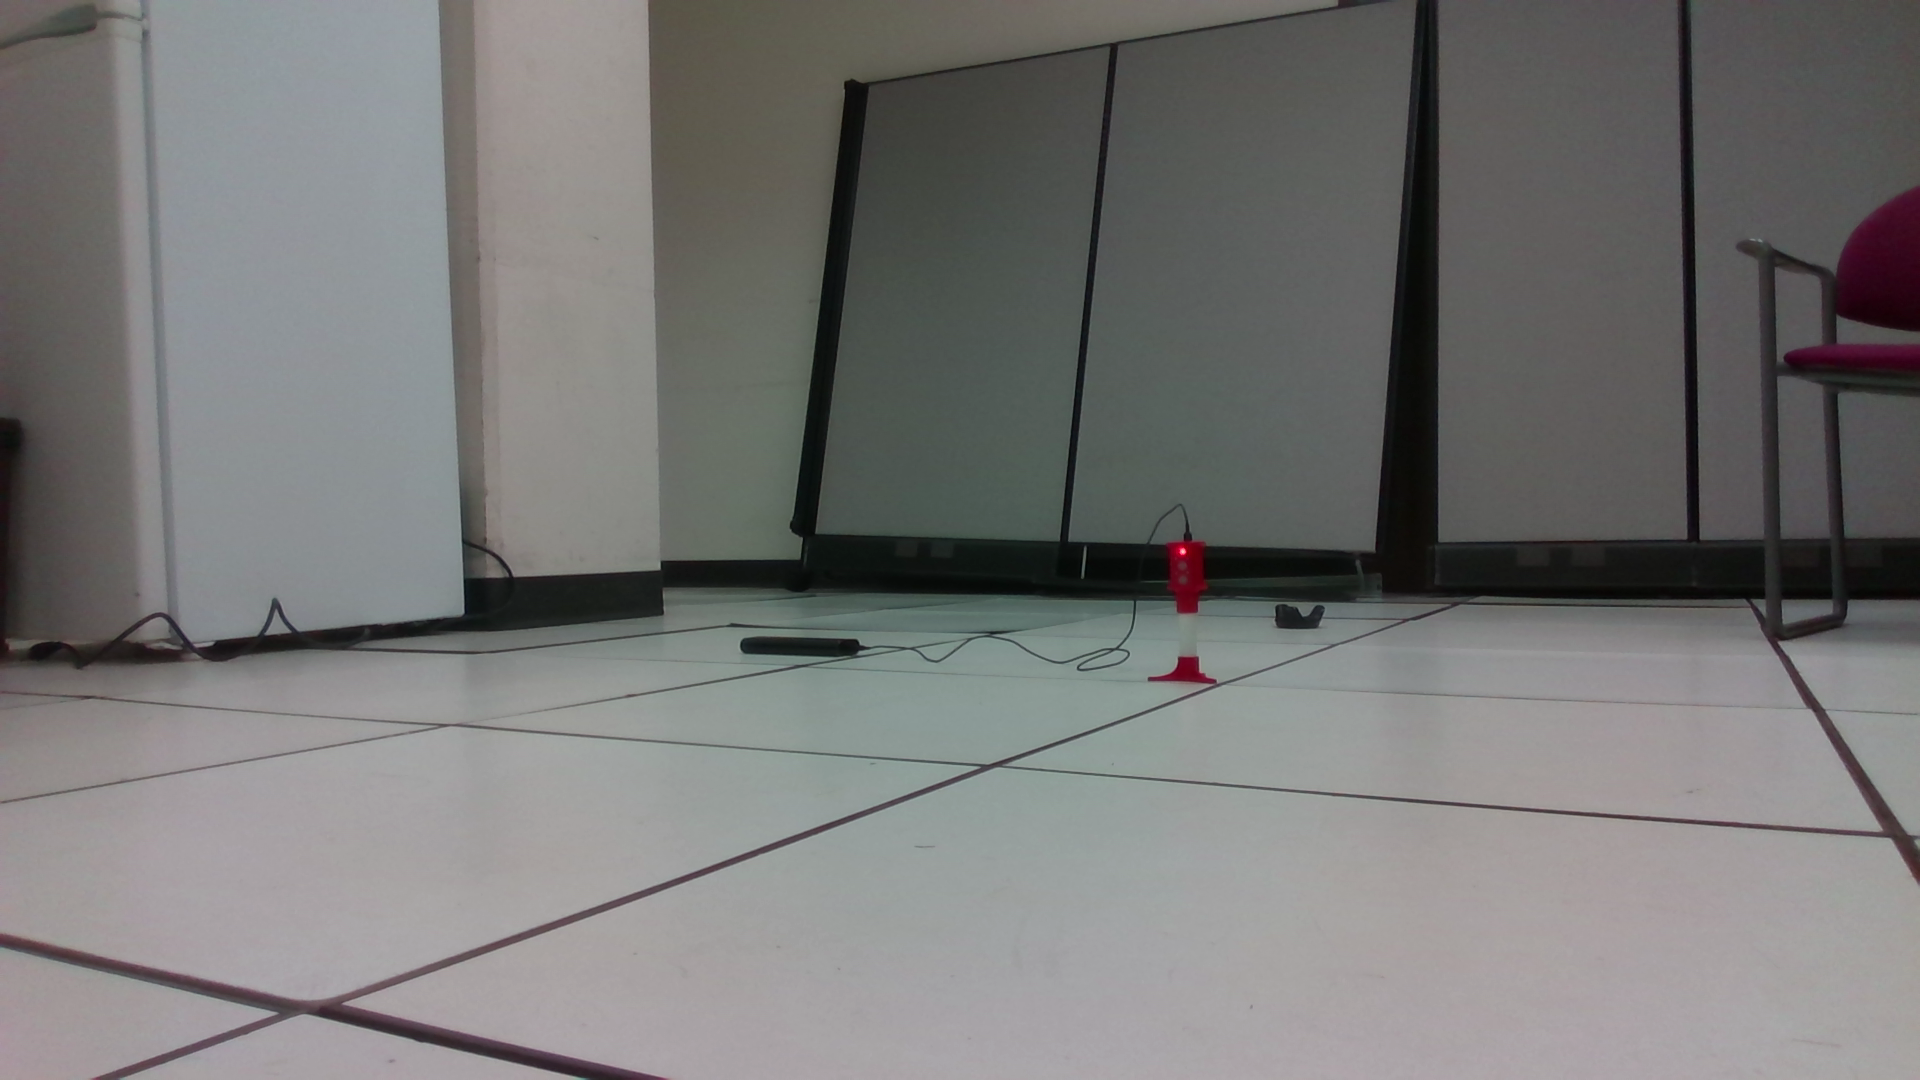stoplight: (1166, 541, 1212, 615)
